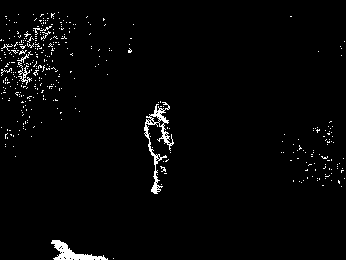person: (142, 99, 176, 195)
